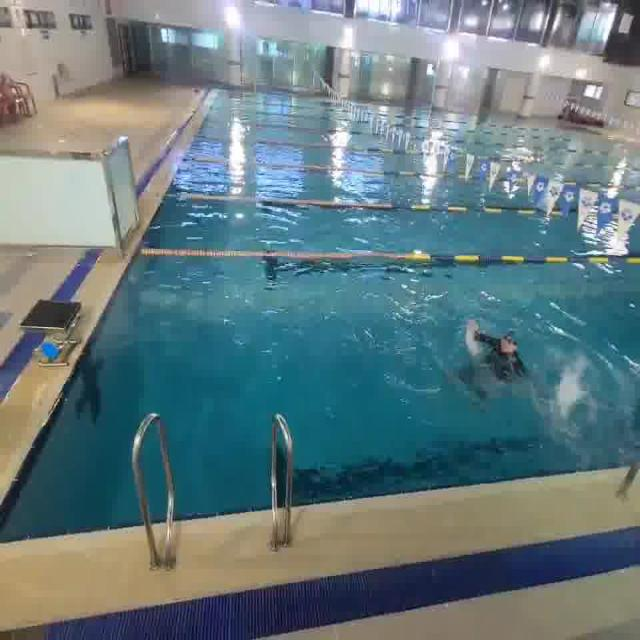Swimming: (454, 304, 576, 425)
